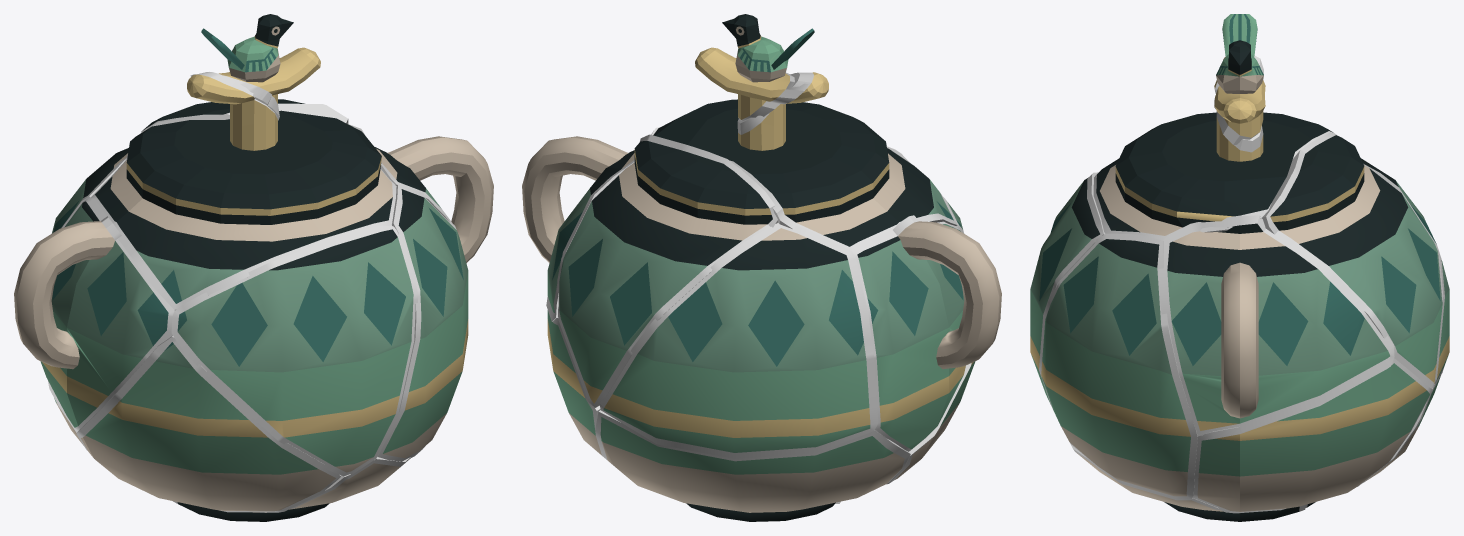
Rendered from v5_bird.fbx.
The picture shows the model from 3 angles, left to right: view 1: azimuth 30°, elevation 25°; view 2: azimuth 150°, elevation 25°; view 3: azimuth 270°, elevation 25°; orthographic projection. The views are drawn at different scales.
Parts seen in each view (by area): view 1: shard12, shard4, shard5, shard6, shard2, shard10, shard11, gold4, gold12, gold5, shard1, gold2 (+4 smaller); view 2: shard8, shard9, shard12, shard6, shard7, shard10, shard11, gold8, gold9, shard3, gold12, gold7 (+4 smaller); view 3: shard10, shard2, shard9, shard3, shard12, gold10, shard11, shard4, gold2, gold9, shard1, gold3 (+3 smaller).
Part boxes in pixels (bbox=[...]): shard12: bbox=[95, 74, 392, 303]; shard4: bbox=[177, 229, 413, 472]; shard5: bbox=[81, 342, 335, 511]; shard6: bbox=[14, 201, 168, 427]; shard2: bbox=[383, 189, 468, 458]; shard10: bbox=[375, 136, 493, 262]; shard11: bbox=[201, 14, 320, 103]; gold4: bbox=[171, 225, 418, 476]; gold12: bbox=[91, 72, 396, 310]; gold5: bbox=[76, 335, 341, 512]; shard1: bbox=[177, 463, 400, 521]; gold2: bbox=[377, 184, 456, 461]; shard8: bbox=[603, 228, 870, 452]; shard9: bbox=[559, 141, 772, 403]; shard12: bbox=[653, 72, 953, 246]; shard6: bbox=[857, 221, 1001, 449]; shard7: bbox=[600, 417, 904, 521]; shard10: bbox=[522, 136, 634, 312]; shard11: bbox=[695, 14, 814, 119]; gold8: bbox=[599, 223, 878, 458]; gold9: bbox=[557, 134, 777, 407]; shard3: bbox=[547, 310, 601, 455]; gold12: bbox=[653, 72, 957, 250]; gold7: bbox=[595, 410, 910, 482]; shard10: bbox=[1167, 223, 1389, 430]; shard2: bbox=[1041, 239, 1190, 496]; shard9: bbox=[1270, 135, 1442, 383]; shard3: bbox=[1197, 363, 1429, 511]; shard12: bbox=[1096, 57, 1333, 235]; gold10: bbox=[1158, 215, 1394, 435]; shard11: bbox=[1214, 14, 1265, 137]; shard4: bbox=[1030, 177, 1099, 404]; gold2: bbox=[1039, 233, 1197, 499]; gold9: bbox=[1262, 132, 1443, 388]; shard1: bbox=[1077, 453, 1299, 521]; gold3: bbox=[1192, 358, 1432, 513].
Bounding box in the file's own units: 16.42 × 15.42 × 12.95.
